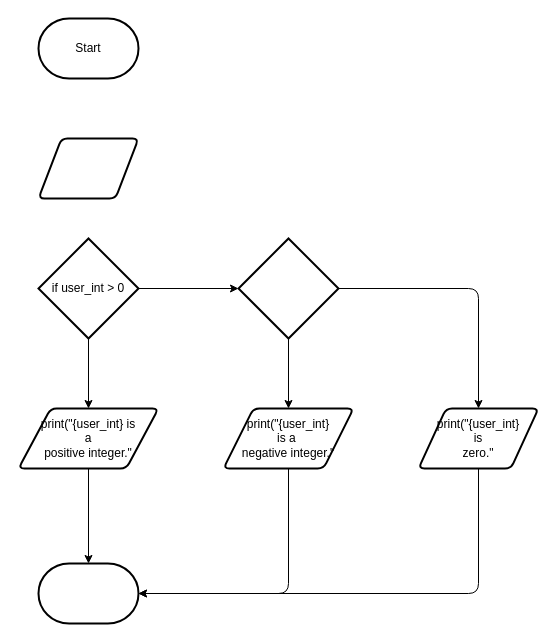
Image size: 556x641. Some labels were removed from this diagram. The shapes that lost their labels are listed below. From the top down, each one's centre as x and y in pixels, then its label:
the point at 88,168: User enters integer
the point at 288,288: if user_int < 0
the point at 88,593: Stop
